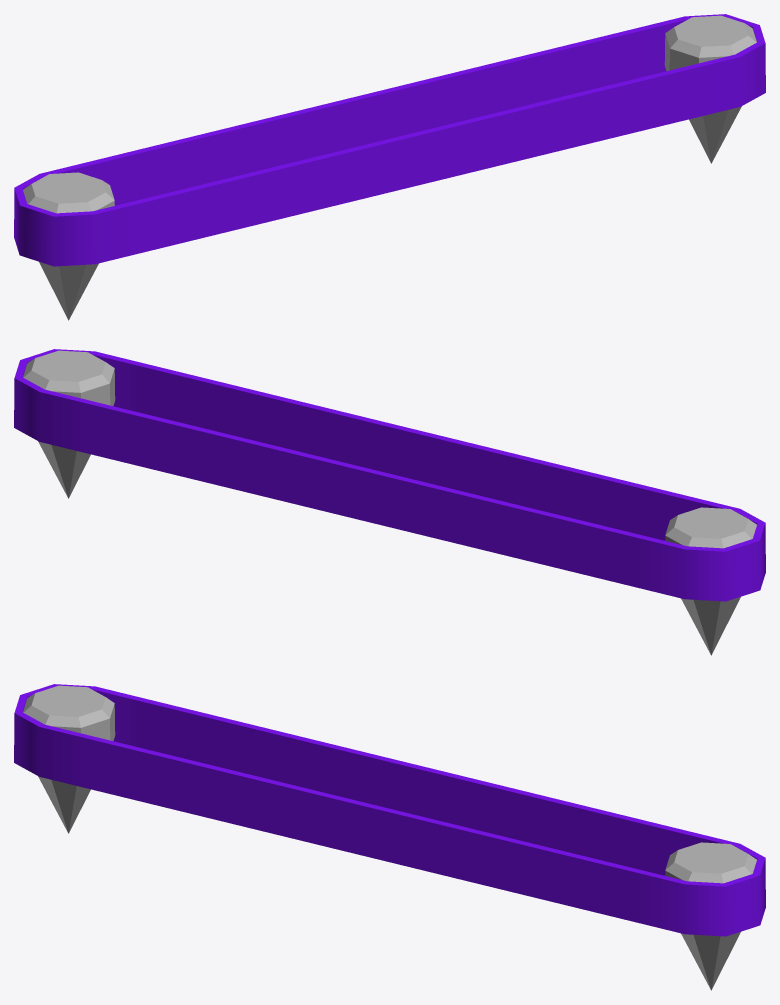
Rendered from Elastic Band Small Purple.fbx.
The picture shows the model from 3 angles, top to bottom: view 1: azimuth 30°, elevation 25°; view 2: azimuth 150°, elevation 25°; view 3: azimuth 330°, elevation 25°; orthographic projection.
Visible parts, largest first — view 1: Band.005, Pegs.005; view 2: Band.005, Pegs.005; view 3: Band.005, Pegs.005.
Part boxes in pixels (left/top/right/bottom): Band.005: left=14, top=14, right=765, bottom=266; Pegs.005: left=23, top=15, right=756, bottom=320; Band.005: left=14, top=349, right=765, bottom=601; Pegs.005: left=23, top=350, right=756, bottom=655; Band.005: left=14, top=684, right=765, bottom=936; Pegs.005: left=23, top=685, right=756, bottom=990.
Bounding box in the file's own units: 0.5559 × 0.0952 × 0.0727.
